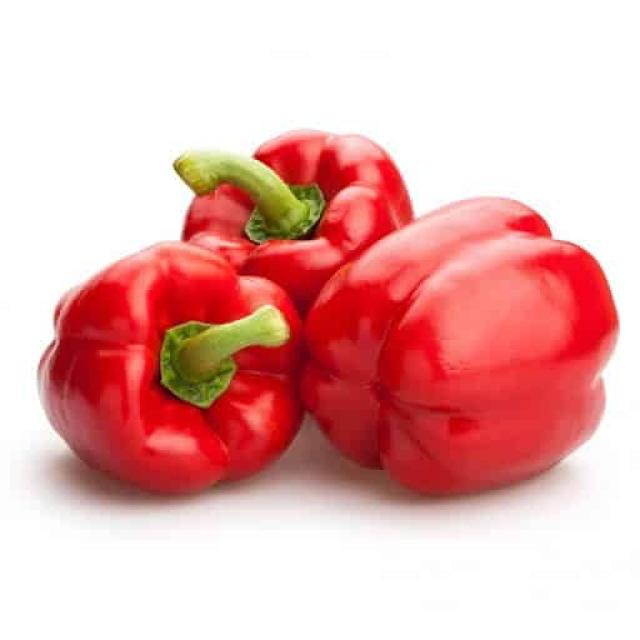pepper: (302, 196, 619, 494), (36, 242, 302, 497), (171, 128, 415, 265)
